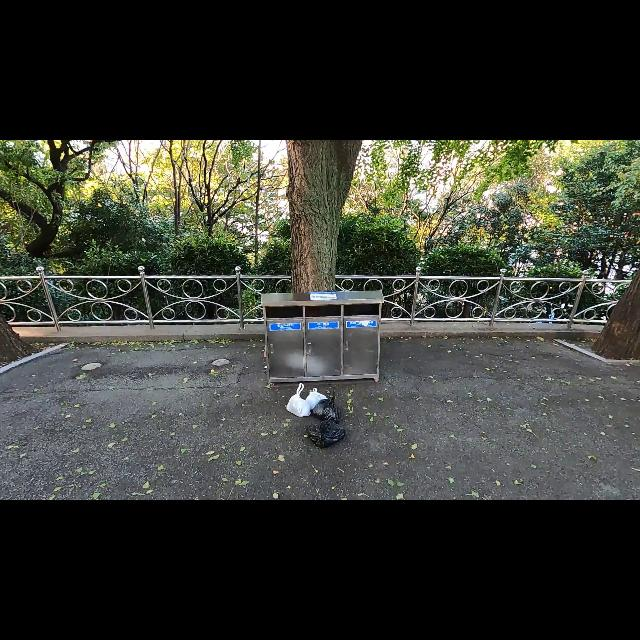trash: (305, 417, 347, 447), (313, 390, 343, 426), (284, 382, 312, 418), (301, 382, 333, 413)
